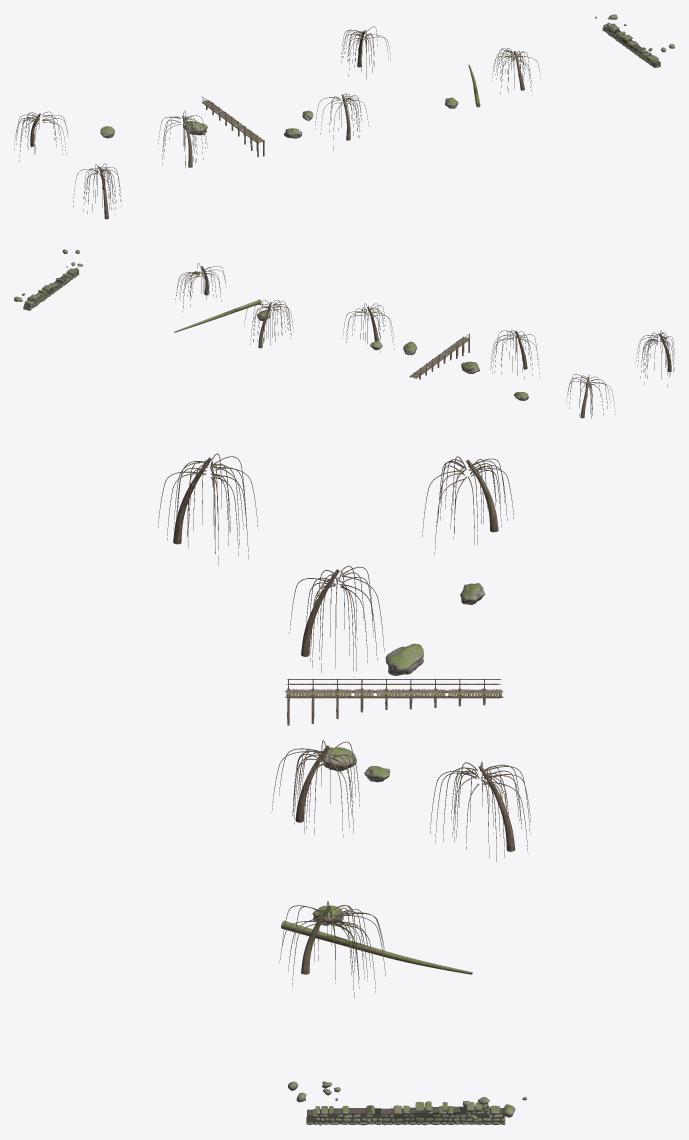
The model's file is stauwehr-bauten.glb.
The picture shows the model from 3 angles, top to bottom: view 1: azimuth 30°, elevation 25°; view 2: azimuth 150°, elevation 25°; view 3: azimuth 270°, elevation 25°; orthographic projection. The views are drawn at different scales.
Visible parts, largest first — view 1: Weide5_Holz, Wasserbloecke, Weide0_Holz, Weide2_Holz, Weide4_Holz, Steg, Weide1_Holz, Weide3_Holz, Wehr; view 2: Weide2_Holz, Weide5_Holz, Weide0_Holz, Weide4_Holz, Wasserbloecke, Steg, Weide1_Holz, Wehr, Weide3_Holz, Sturzstamm; view 3: Steg, Wehr, Wasserbloecke, Weide2_Holz, Weide5_Holz, Weide0_Holz, Weide4_Holz, Weide1_Holz, Weide3_Holz, Wehr_Kern, Sturzstamm.
Part boxes in pixels (bbox=[...]): Weide5_Holz: bbox=[73, 163, 121, 219]; Wasserbloecke: bbox=[100, 97, 458, 138]; Weide0_Holz: bbox=[158, 110, 207, 168]; Weide2_Holz: bbox=[341, 26, 391, 78]; Weide4_Holz: bbox=[492, 48, 541, 95]; Steg: bbox=[202, 97, 264, 157]; Weide1_Holz: bbox=[315, 93, 368, 150]; Weide3_Holz: bbox=[14, 111, 68, 161]; Wehr: bbox=[602, 23, 660, 67]; Weide2_Holz: bbox=[243, 300, 293, 348]; Weide5_Holz: bbox=[635, 330, 674, 386]; Weide0_Holz: bbox=[490, 330, 539, 379]; Weide4_Holz: bbox=[175, 263, 226, 312]; Wasserbloecke: bbox=[257, 311, 528, 400]; Steg: bbox=[409, 333, 469, 379]; Weide1_Holz: bbox=[342, 303, 394, 352]; Wehr: bbox=[23, 268, 79, 310]; Weide3_Holz: bbox=[566, 374, 615, 418]; Sturzstamm: bbox=[174, 299, 261, 332]; Steg: bbox=[285, 678, 503, 725]; Wehr: bbox=[306, 1101, 505, 1125]; Wasserbloecke: bbox=[312, 583, 484, 925]; Weide2_Holz: bbox=[430, 762, 530, 861]; Weide5_Holz: bbox=[158, 453, 258, 565]; Weide0_Holz: bbox=[289, 565, 384, 677]; Weide4_Holz: bbox=[279, 901, 385, 998]; Weide1_Holz: bbox=[271, 740, 359, 837]; Weide3_Holz: bbox=[422, 456, 513, 554]; Wehr_Kern: bbox=[307, 1106, 503, 1124]; Sturzstamm: bbox=[281, 921, 472, 974].
Size of the model in its own units: 123 by 12.47 by 33.54.
12 materials, 12 textured.
